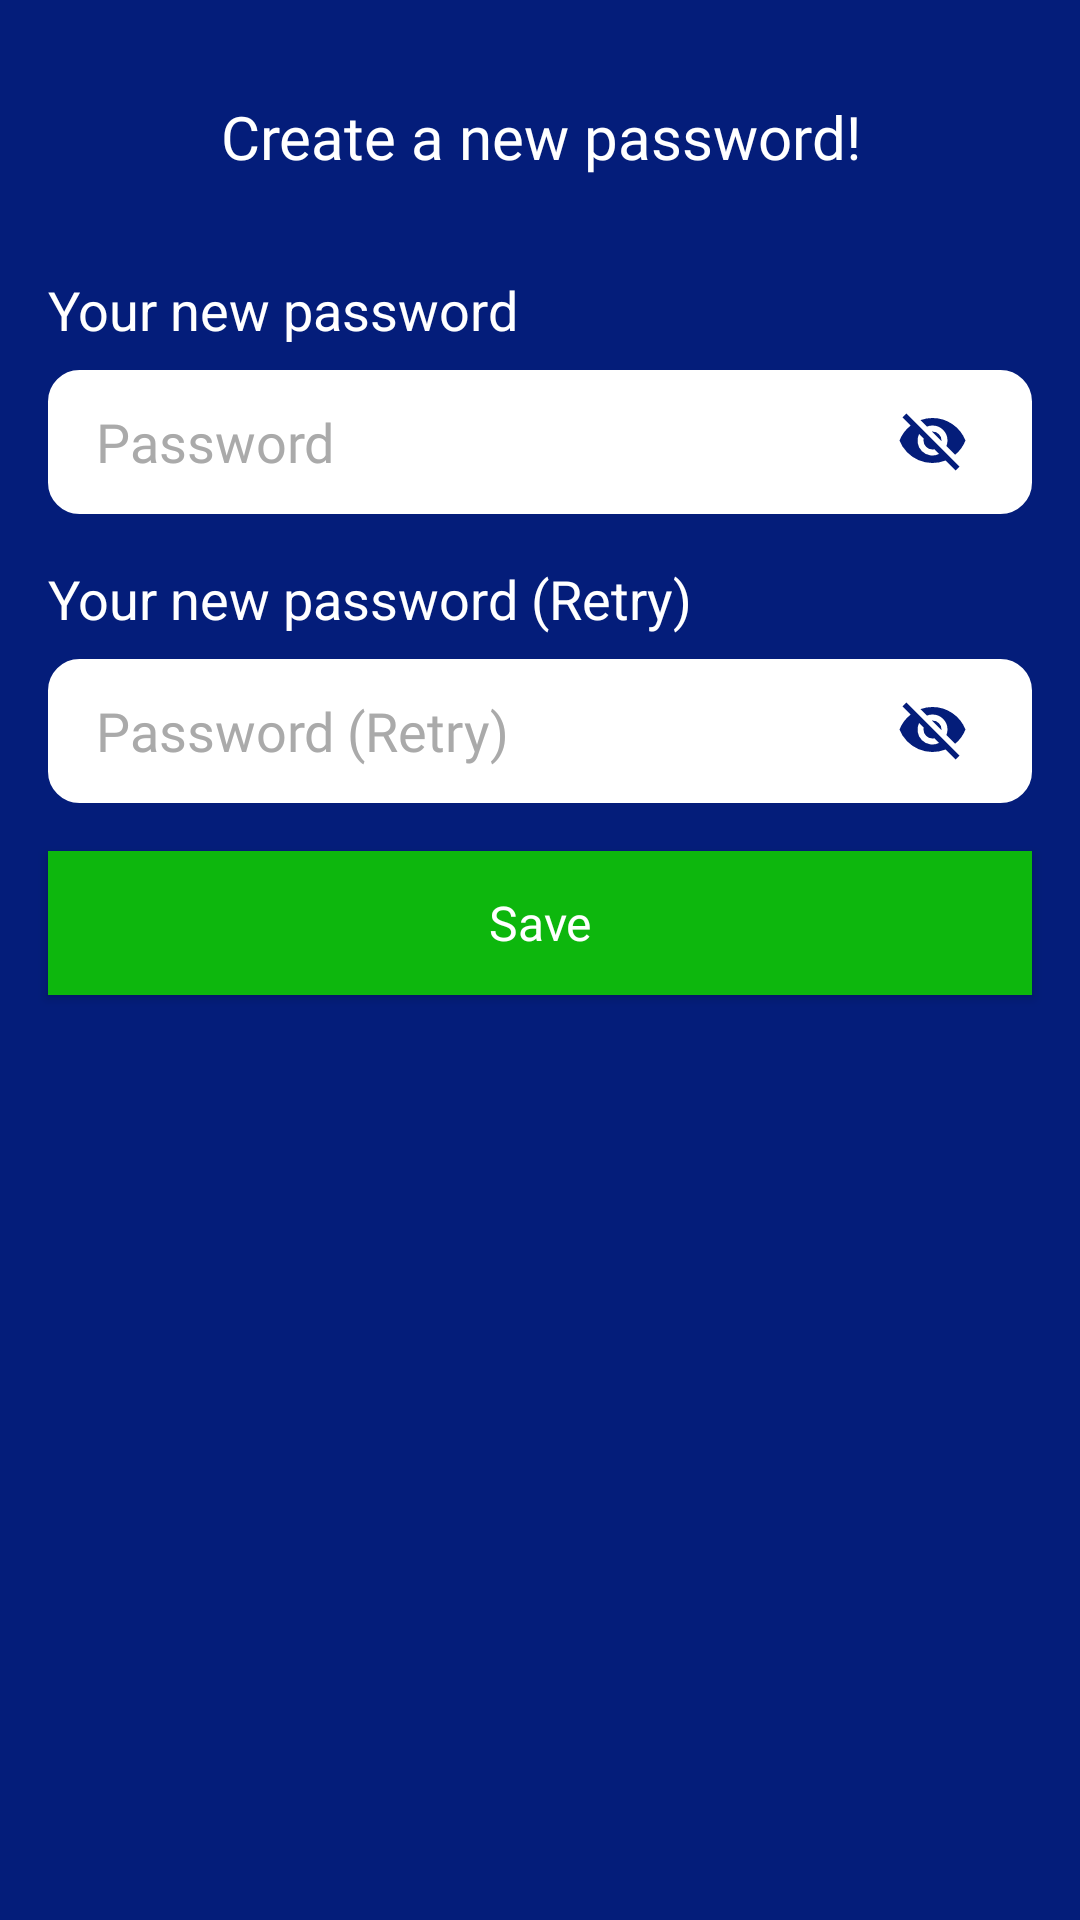

Named icons in this screenshot (1080px×1920px) and their centers, [x,y]:
eye close: [932,442], [932,731]
